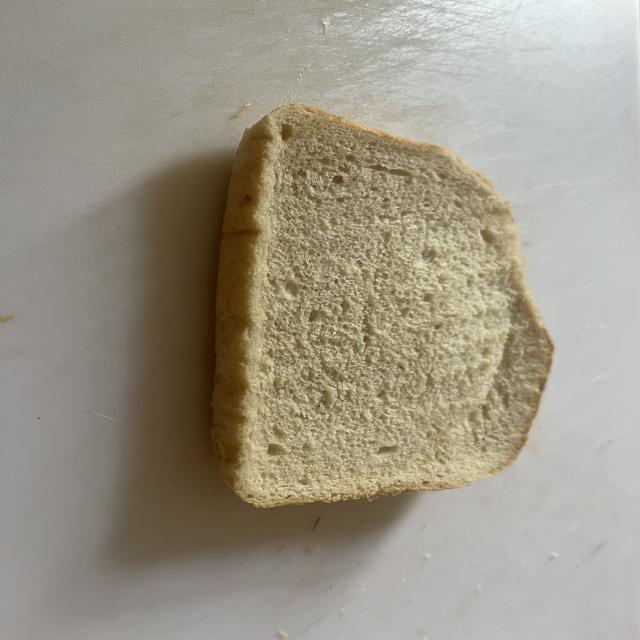sliced_bread: (212, 105, 553, 507)
